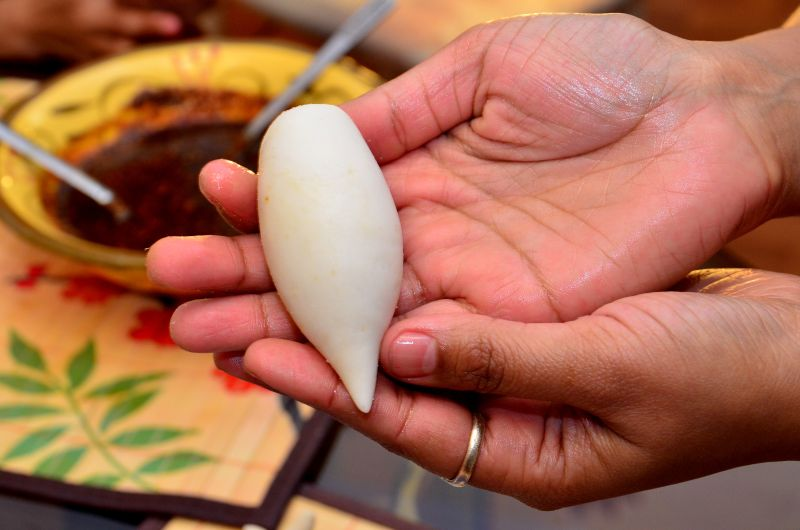yomari: (258, 104, 390, 413)
